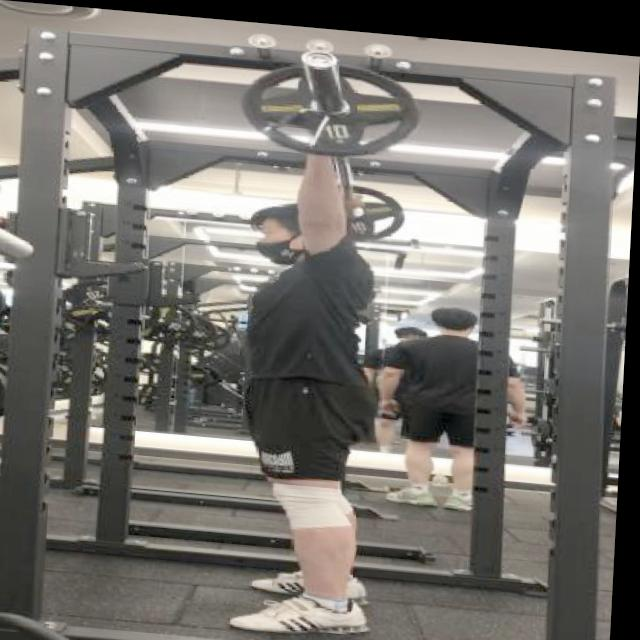barbell: (240, 40, 425, 160)
